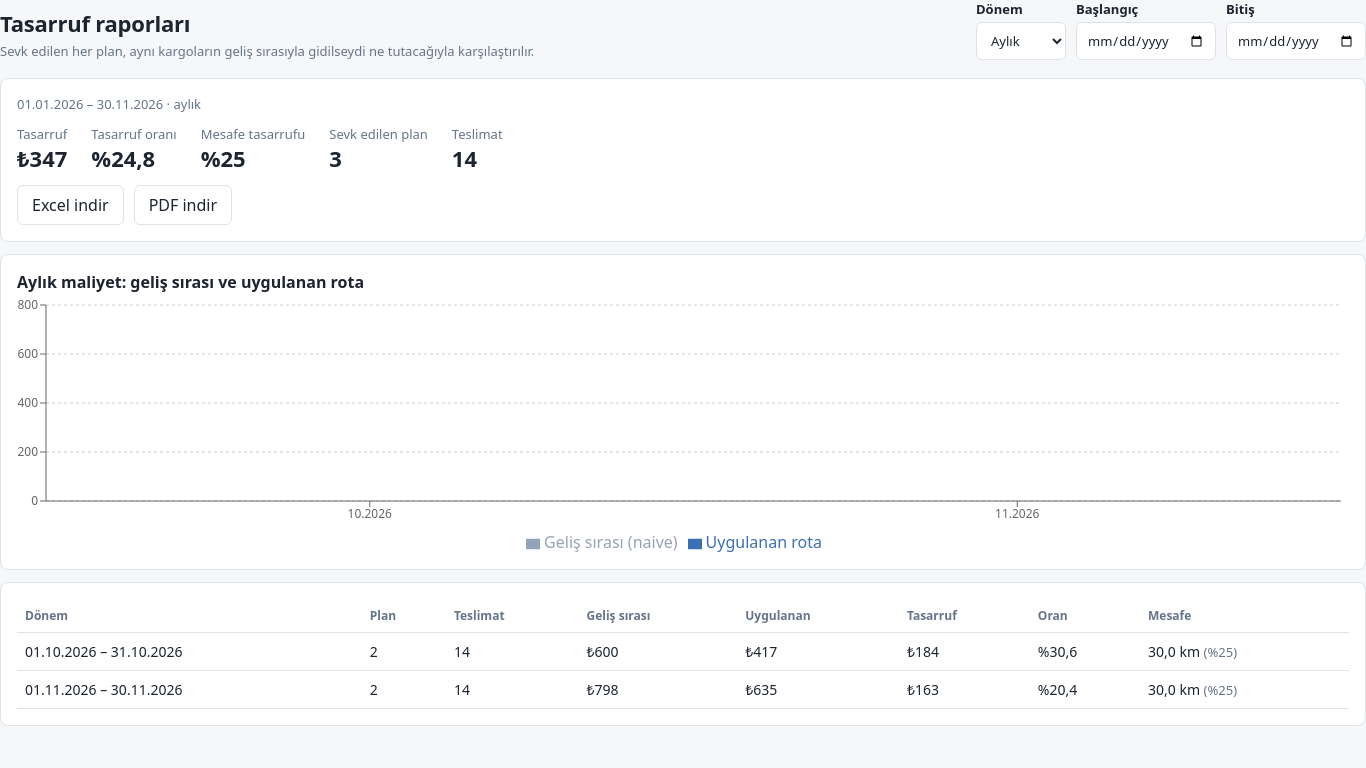
Test case: SavingsPage (F9) › should show why a report could not be built
Click the button "Excel indir" at (70, 205), box [17,185,124,225]
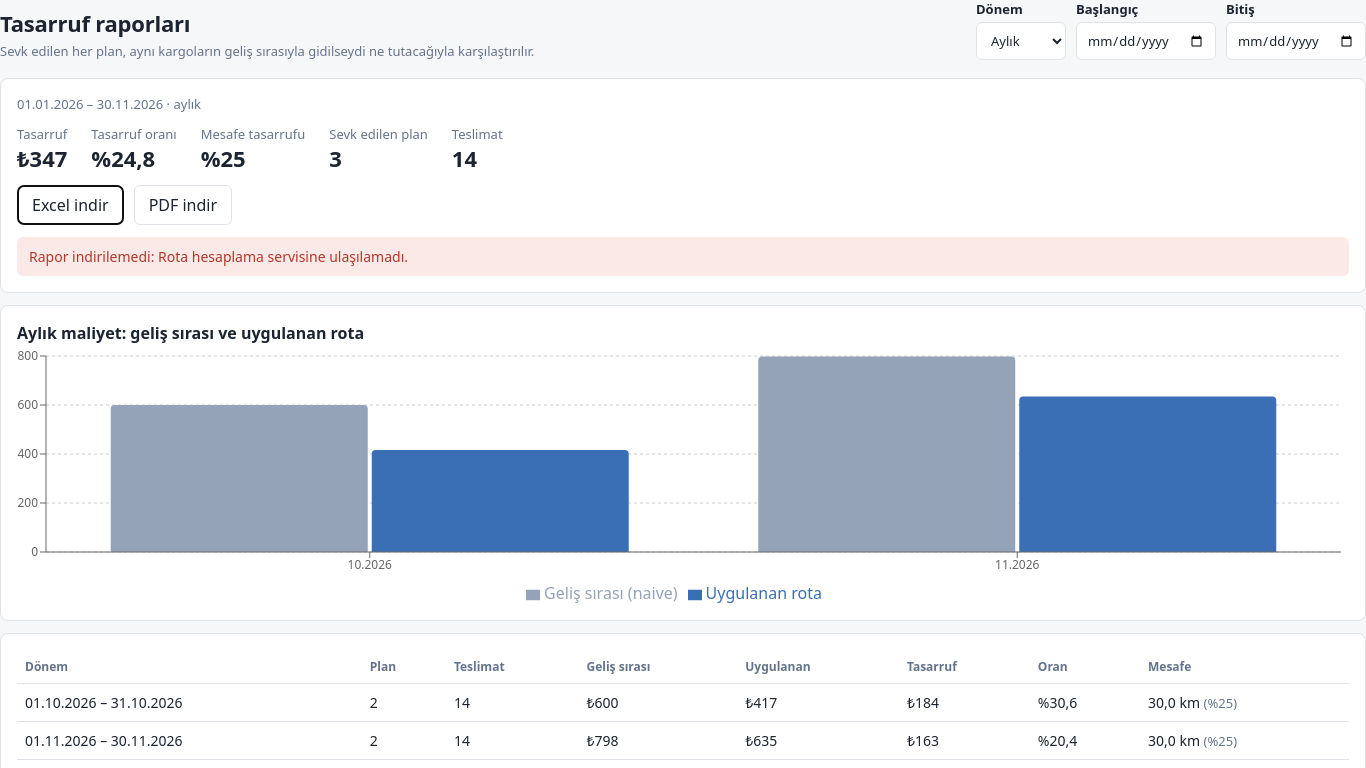
Result: the message reads "Rapor indirilemedi: Rota hesaplama servisine ulaşılamadı." at [17,237,1349,276]
